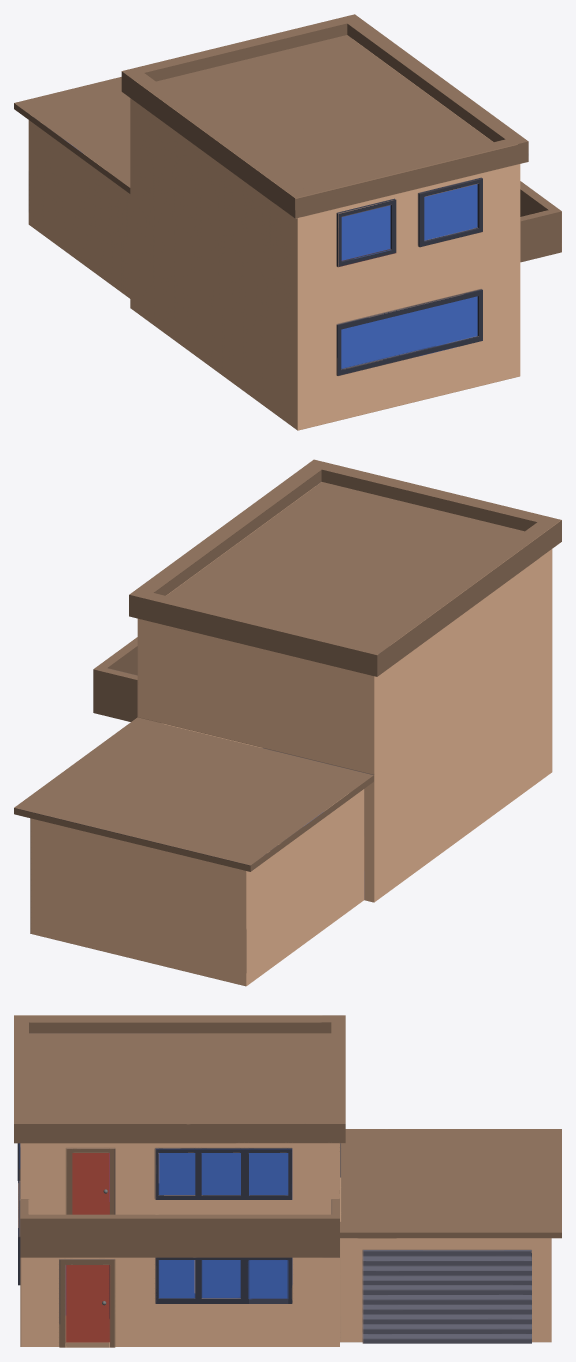
File: Building4.fbx
3 renders of one model, top to bottom at view 1: azimuth 30°, elevation 25°; view 2: azimuth 150°, elevation 25°; view 3: azimuth 270°, elevation 25°, orthographic. The views are drawn at different scales.
Parts seen in each view (by area): view 1: Building4; view 2: Building4; view 3: Building4.
Part boxes in pixels (left/top/right/bottom): Building4: left=14, top=14, right=561, bottom=430; Building4: left=14, top=459, right=561, bottom=986; Building4: left=14, top=1015, right=561, bottom=1347.
Size of the model in its own units: 718 by 601 by 1323.
Materials: 1 (1 with a texture image).
